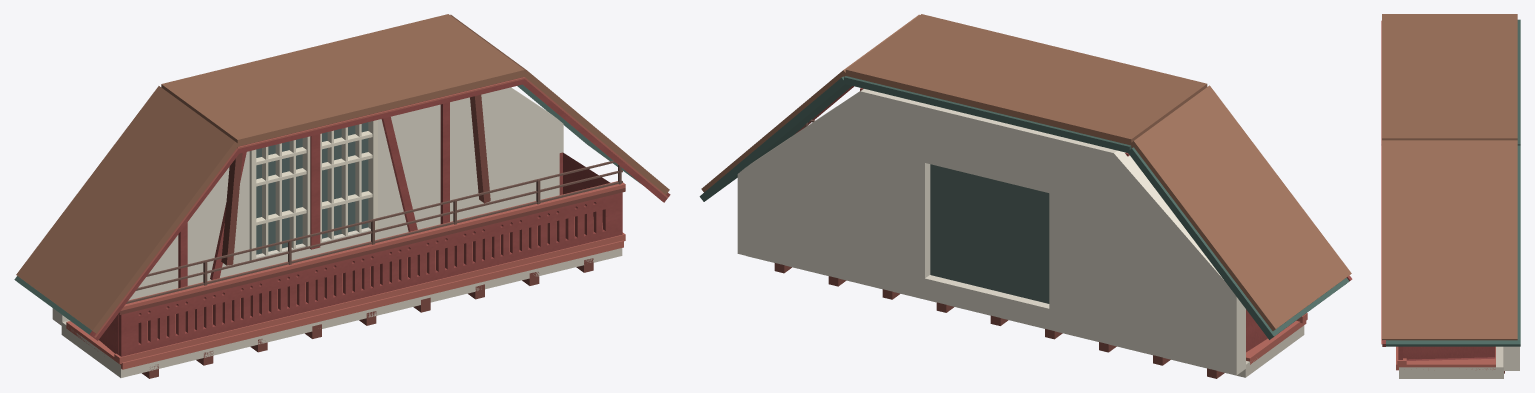
File: kwok-balcony-near.glb
The picture shows the model from 3 angles, left to right: view 1: azimuth 30°, elevation 25°; view 2: azimuth 150°, elevation 25°; view 3: azimuth 270°, elevation 25°; orthographic projection. The views are drawn at different scales.
Parts seen in each view (by area): view 1: 郭氏花园住宅折坡山墙木阳台; view 2: 郭氏花园住宅折坡山墙木阳台; view 3: 郭氏花园住宅折坡山墙木阳台.
Part boxes in pixels (x1,y1,x2,y2): 郭氏花园住宅折坡山墙木阳台: (14,14,670,378); 郭氏花园住宅折坡山墙木阳台: (699,14,1352,378); 郭氏花园住宅折坡山墙木阳台: (1381,14,1520,378).
Bounding box in the file's own units: 7.46 × 2.79 × 1.75.
10 materials, 1 textured.
